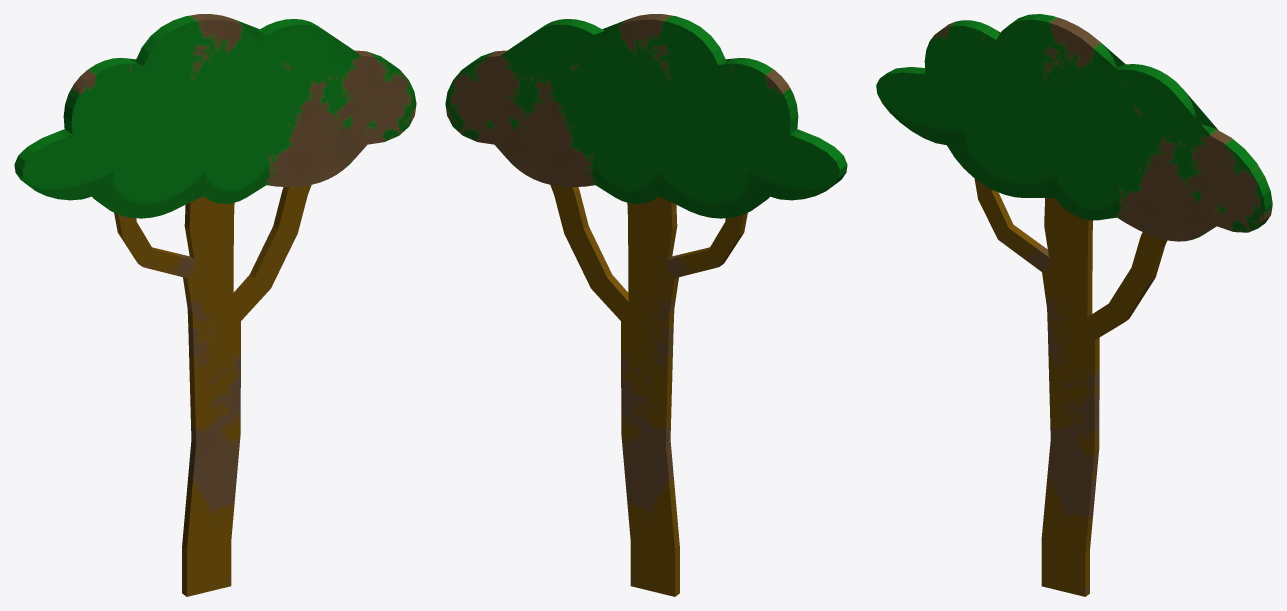
Rendered from arbol 1.fbx.
3 renders of one model, left to right at view 1: azimuth 30°, elevation 25°; view 2: azimuth 150°, elevation 25°; view 3: azimuth 330°, elevation 25°, orthographic.
Parts seen in each view (by area): view 1: arbol 1; view 2: arbol 1; view 3: arbol 1.
Boxes of the visible parts, x1,y1,x2,y2 form: arbol 1: [14, 14, 416, 596]; arbol 1: [445, 14, 847, 596]; arbol 1: [876, 14, 1272, 596].
Size of the model in its own units: 520 by 724 by 17.73.
